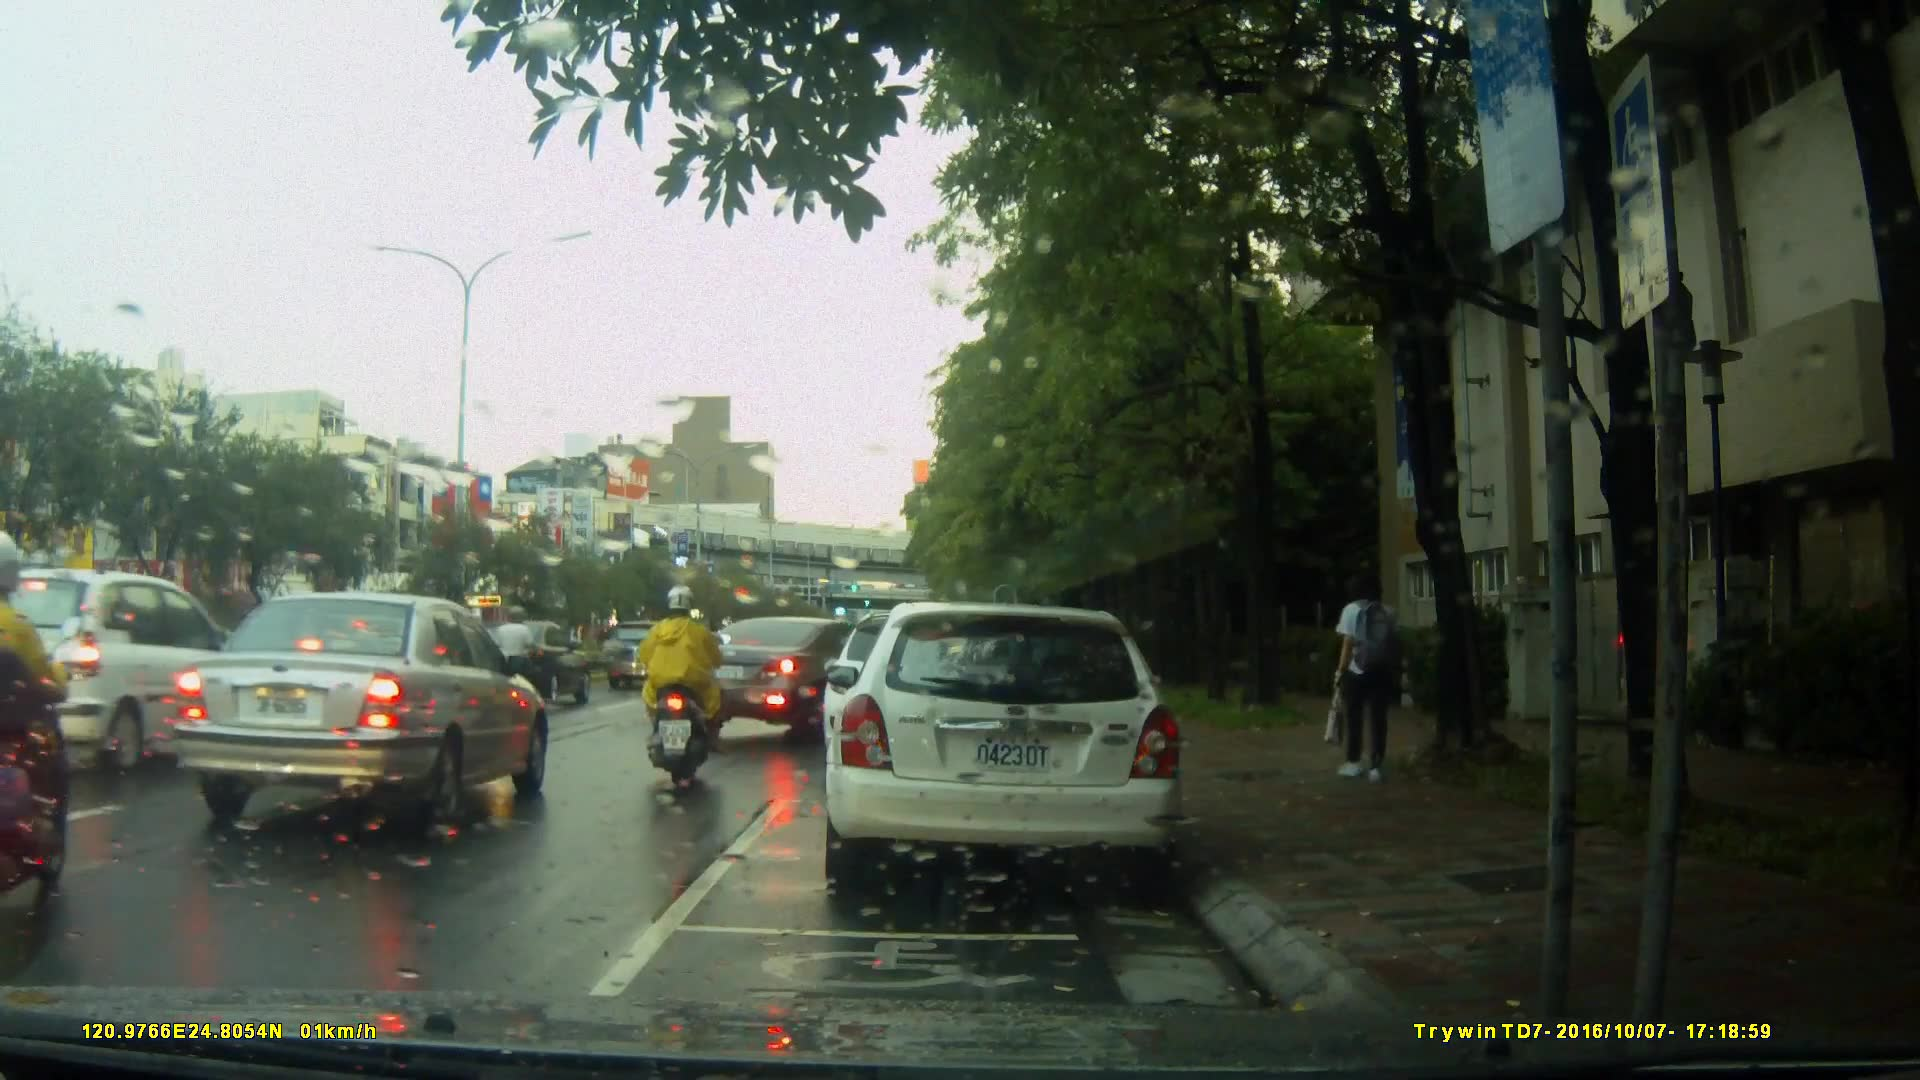pedestrian: (1329, 559, 1413, 795)
rider: (1, 533, 76, 886), (639, 583, 720, 788), (494, 602, 555, 713)
vehicle: (820, 602, 1188, 898), (166, 591, 555, 832), (1, 570, 260, 777), (679, 614, 905, 750), (458, 619, 597, 707)
